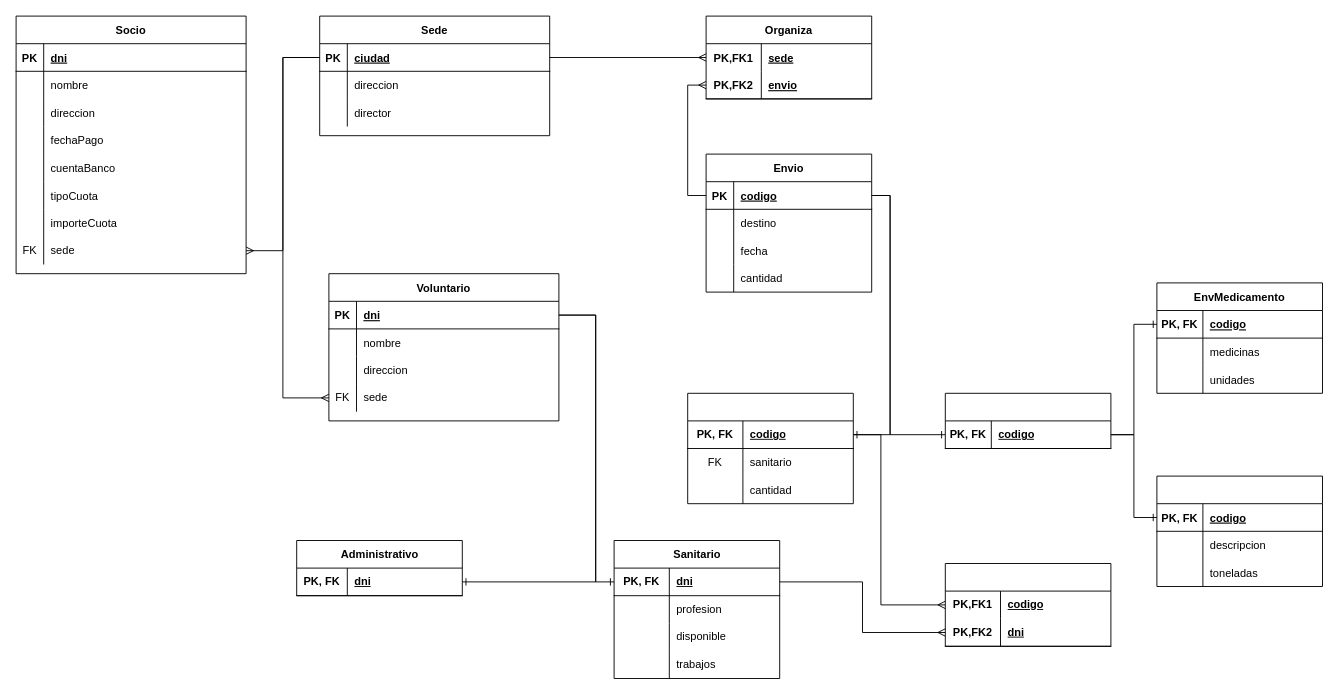
Some shapes in this 1339 by 695 pixel diagram are drawn without their labels. The shapes that lost their labels are listed below. From the top down, each one's box as (x1, y1, x2, y2) in pixels, then its label:
(944, 392, 1111, 448): EnvioMaterial
(687, 392, 853, 504): EnvioHumanitario
(1156, 475, 1322, 586): EnvAliemento
(944, 563, 1111, 646): Realiza
